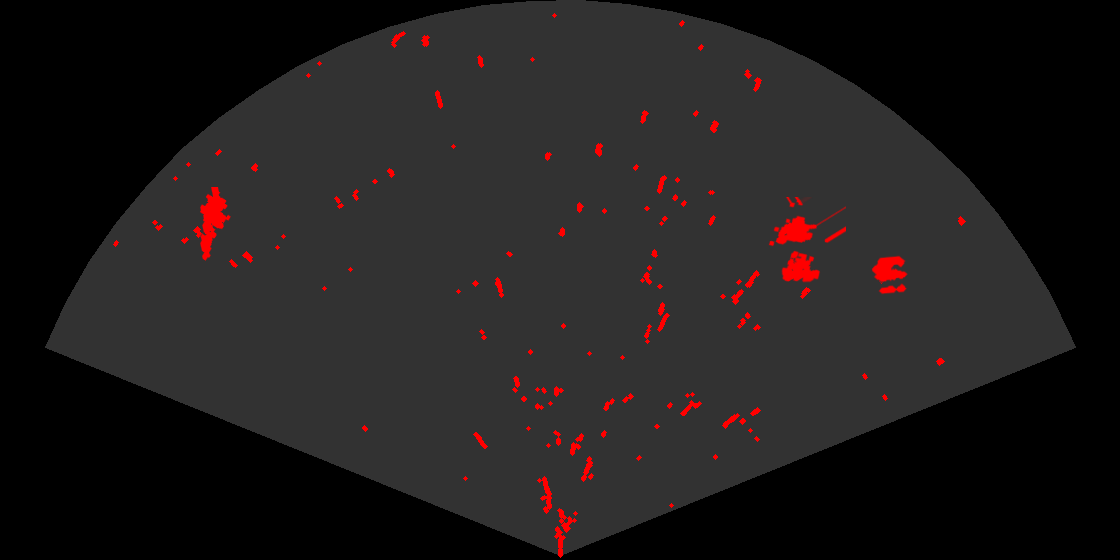ball: (870, 254, 909, 296)
cage: (767, 197, 846, 284)
frogman: (199, 187, 232, 262)
